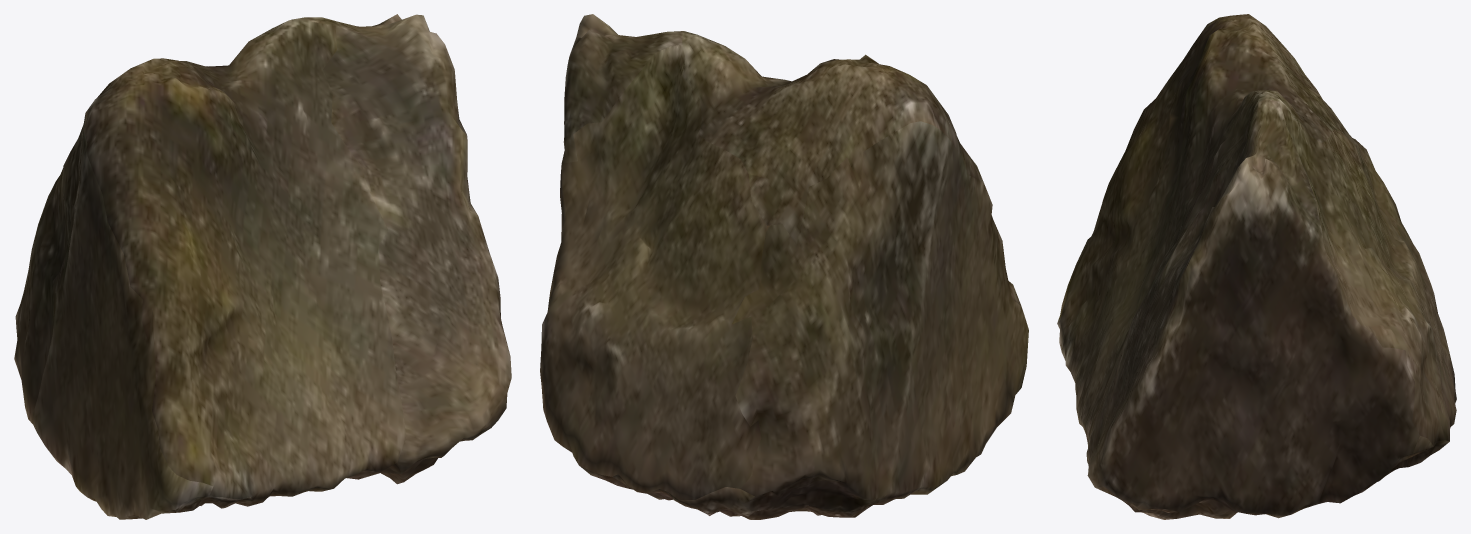
Rendered from stone_c.glb.
The picture shows the model from 3 angles, left to right: view 1: azimuth 30°, elevation 25°; view 2: azimuth 150°, elevation 25°; view 3: azimuth 270°, elevation 25°; orthographic projection. The views are drawn at different scales.
Parts seen in each view (by area): view 1: rock_moss_set_01_rock03.001; view 2: rock_moss_set_01_rock03.001; view 3: rock_moss_set_01_rock03.001.
Boxes of the visible parts, box(x1,y1,x2,y2) form: rock_moss_set_01_rock03.001: box(14, 14, 511, 519); rock_moss_set_01_rock03.001: box(540, 14, 1028, 519); rock_moss_set_01_rock03.001: box(1057, 14, 1456, 519).
Size of the model in its own units: 2.44 by 2.71 by 2.41.
1 material, 1 textured.
